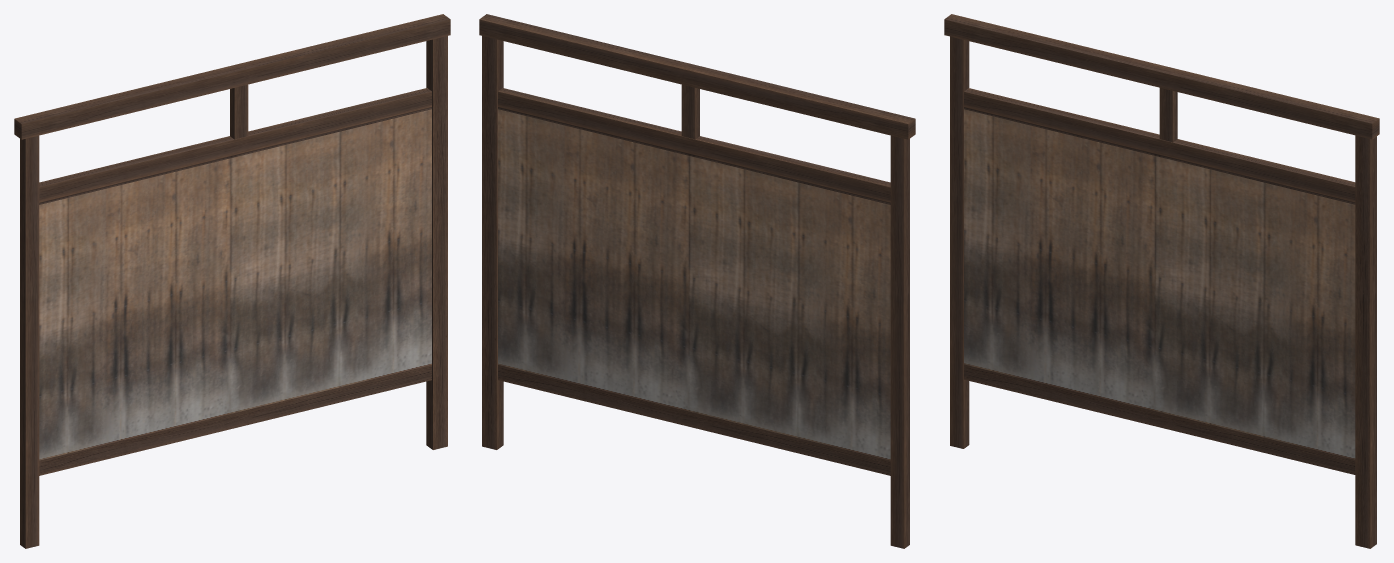
Rendered from fence02a_1t.fbx.
3 views of the same model, side by side, from view 1: azimuth 30°, elevation 25°; view 2: azimuth 150°, elevation 25°; view 3: azimuth 330°, elevation 25° (orthographic).
Parts seen in each view (by area): view 1: fence02a_1t; view 2: fence02a_1t; view 3: fence02a_1t.
Boxes of the visible parts, x1,y1,x2,y2 form: fence02a_1t: (14, 14, 450, 548); fence02a_1t: (479, 14, 915, 548); fence02a_1t: (944, 14, 1379, 548).
Bounding box in the file's own units: 225 × 214 × 6.75.
